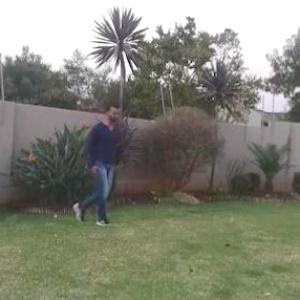follow: (83, 100, 118, 224)
